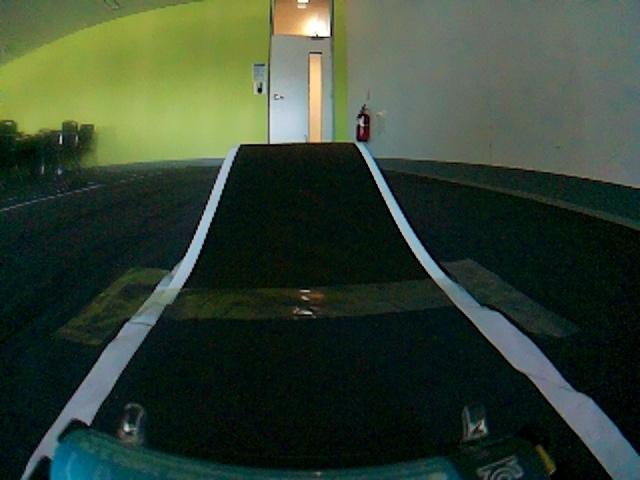go: (17, 331, 640, 480)
hill_up: (165, 144, 473, 316)
